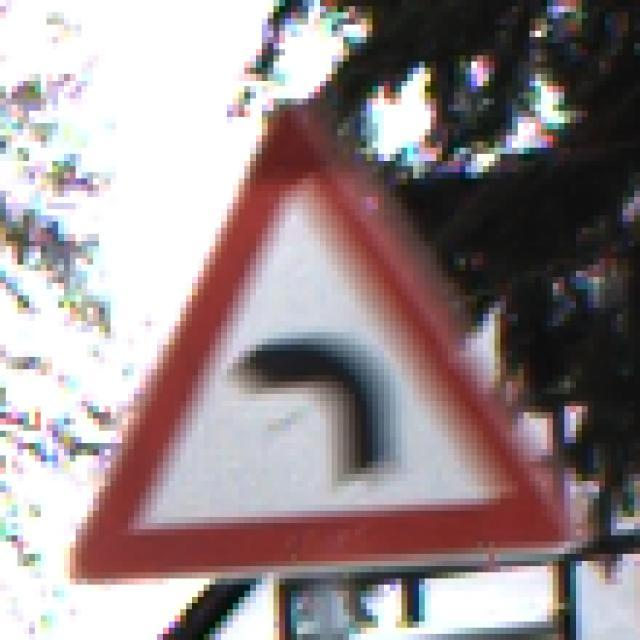left hand curve: (45, 81, 614, 592)
